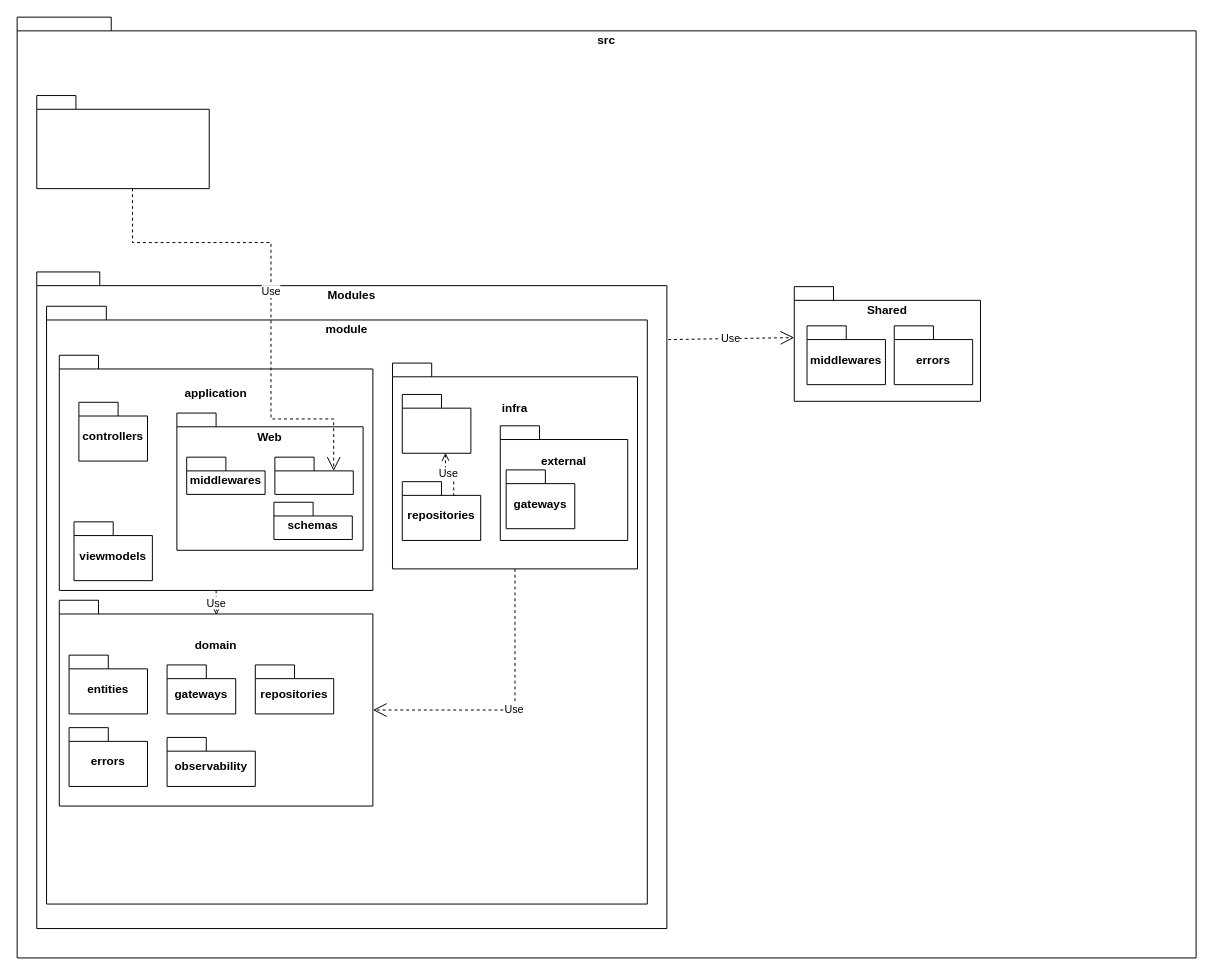
Some shapes in this 1213 by 975 pixel diagram are drawn without their labels. The centre of each missing label's shape, as x and y in pixels:
"app" belongs at point 122,142.
"dto" belongs at point 436,423.
"routes" belongs at point 313,475.
